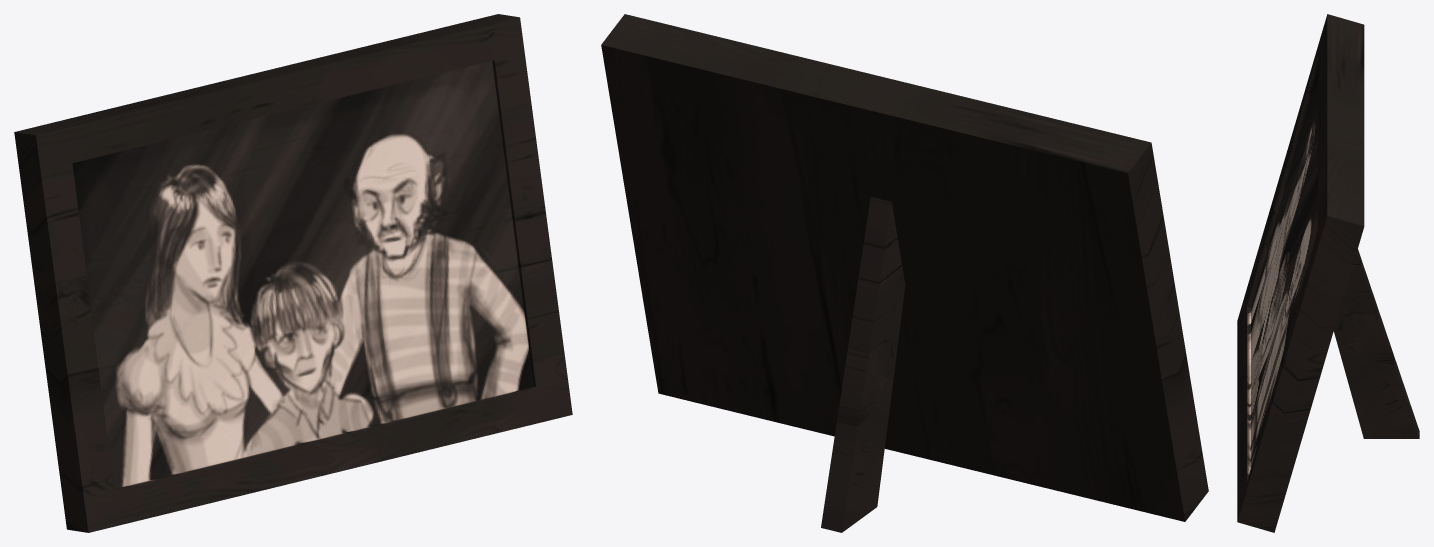
Rendered from cadre_famille.fbx.
The picture shows the model from 3 angles, left to right: view 1: azimuth 30°, elevation 25°; view 2: azimuth 150°, elevation 25°; view 3: azimuth 270°, elevation 25°; orthographic projection. The views are drawn at different scales.
Visible parts, largest first — view 1: polySurface4; view 2: polySurface4; view 3: polySurface4.
Part boxes in pixels (x1,y1,x2,y2): polySurface4: [14, 14, 572, 532]; polySurface4: [601, 14, 1208, 532]; polySurface4: [1237, 14, 1419, 532].
Size of the model in its own units: 8.14 by 6.03 by 3.1.
